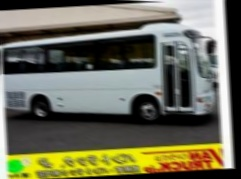bus: (1, 17, 218, 129)
